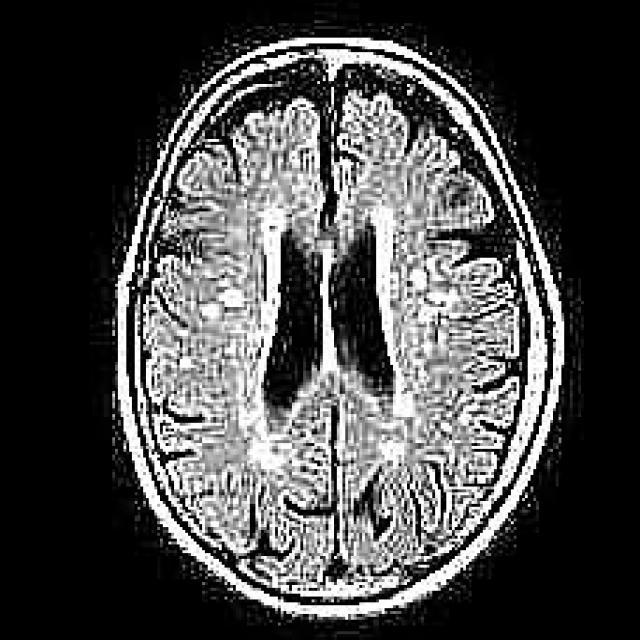notumor: (112, 38, 564, 620)
